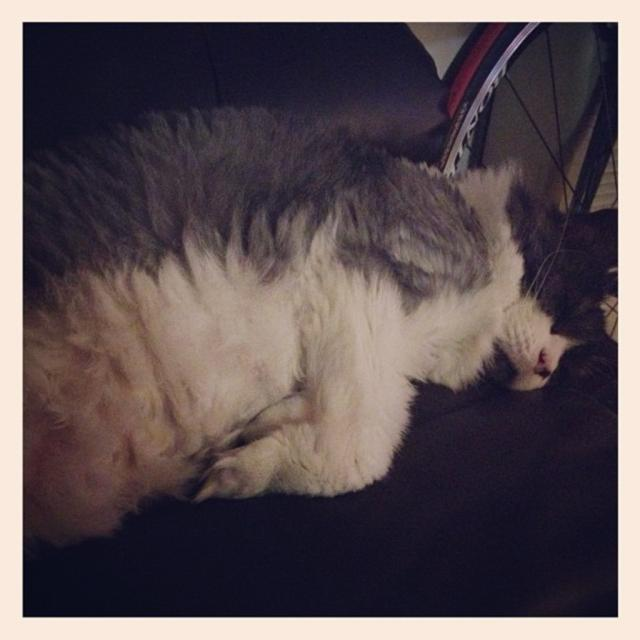Cat: (20, 106, 618, 557)
